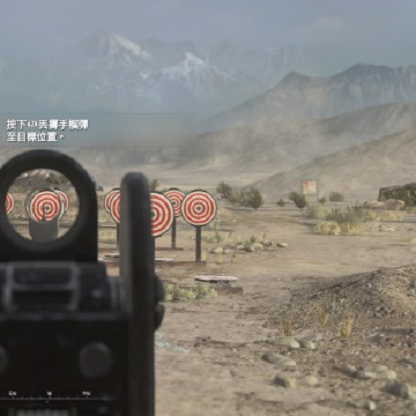target: (180, 190, 216, 227), (29, 189, 63, 220)
